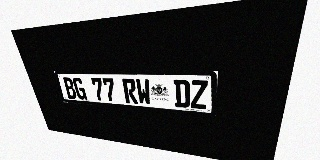7: (101, 78, 117, 102), (90, 78, 106, 101)
B: (62, 77, 77, 99)
D: (173, 79, 190, 108)
G: (72, 77, 87, 100)
R: (122, 78, 138, 104)
W: (135, 79, 152, 105)
Z: (190, 80, 208, 109)
